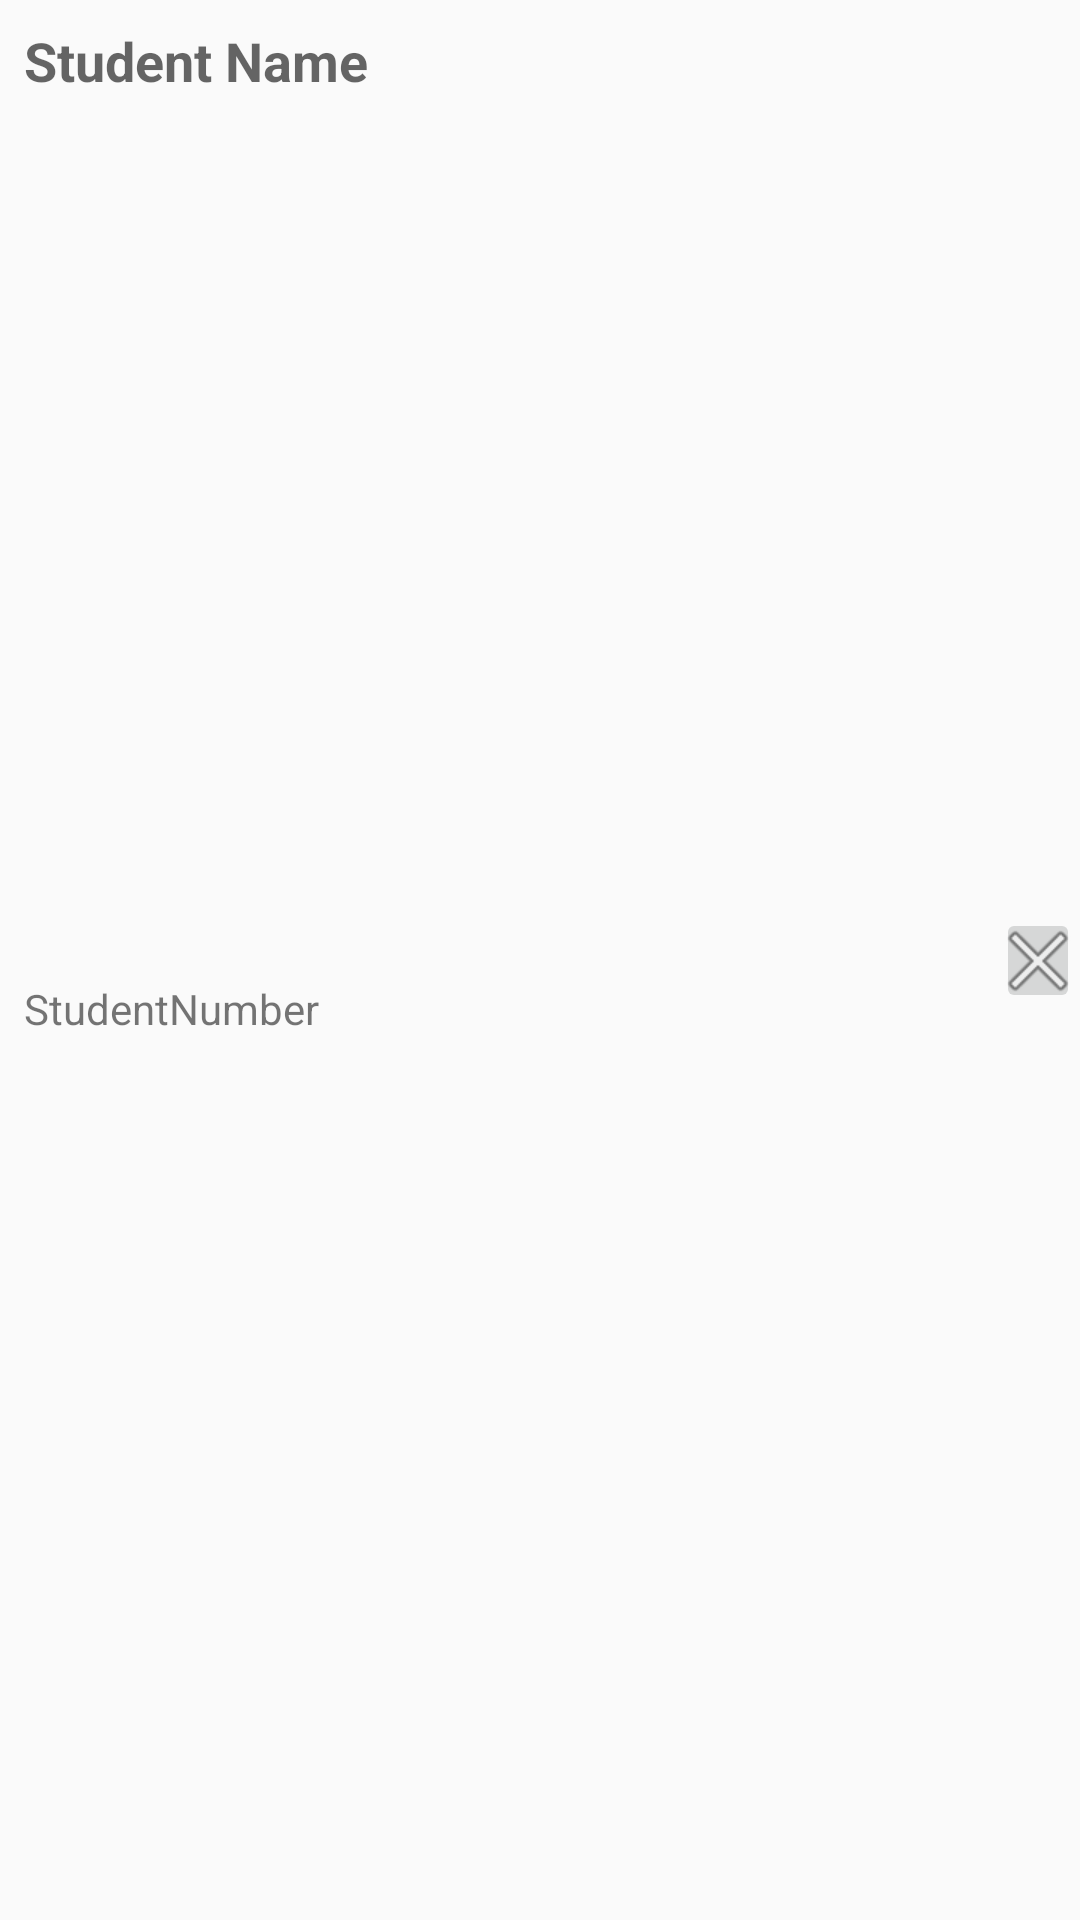

Icons on this 1080w x 1920h Android screen, each with the point to tap as [x,y]:
close clear cancel: [1038,960]
